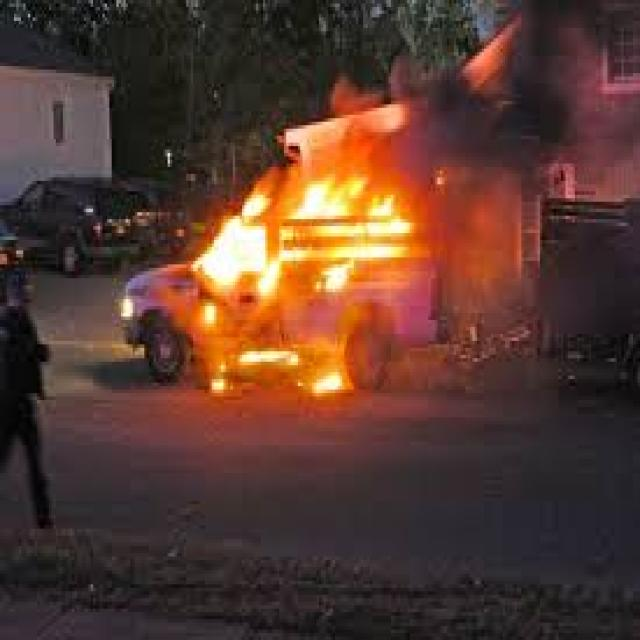Fire: (175, 180, 431, 435)
